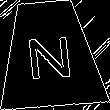N_N: (23, 27, 76, 81)
